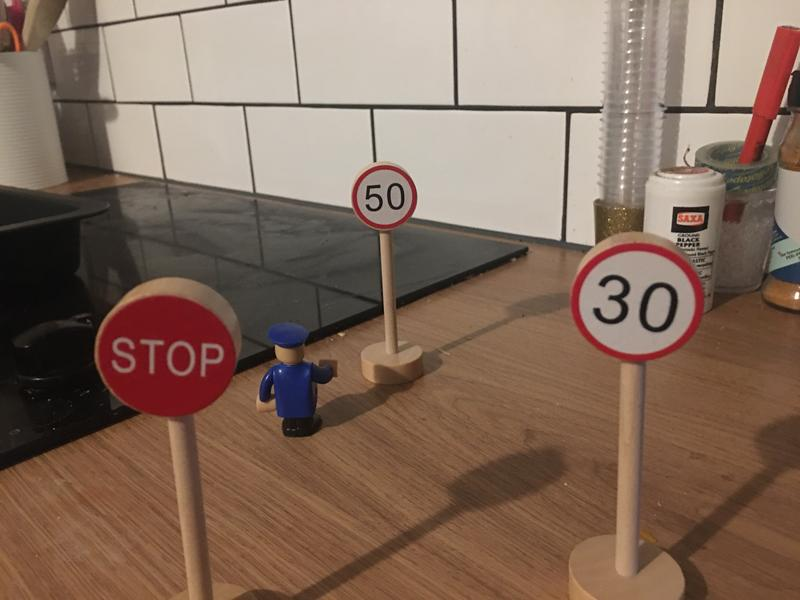Traffic_Sign_30: (573, 242, 704, 362)
Traffic_Sign_50: (353, 165, 417, 229)
Traffic_Sign_Stop: (96, 300, 237, 416)
person: (254, 322, 343, 443)
